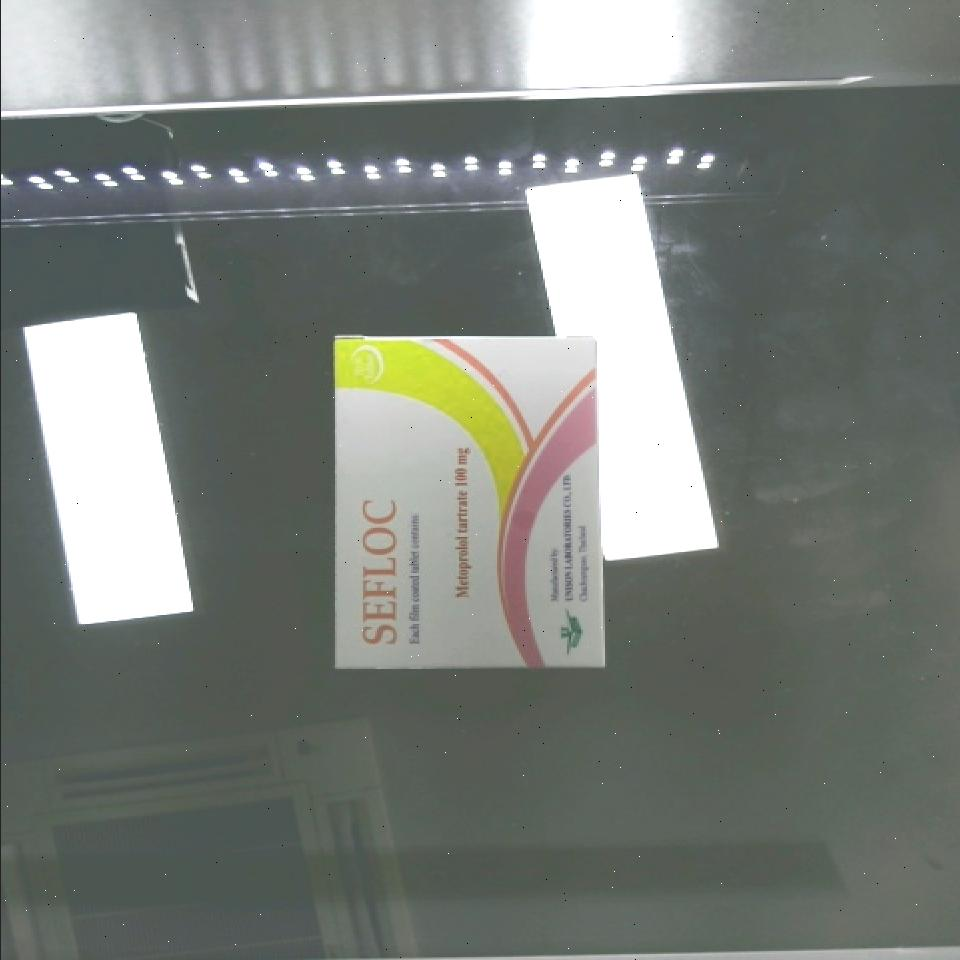medicine_box: (336, 334, 603, 668)
medicine_label_obb: (348, 481, 416, 661)
